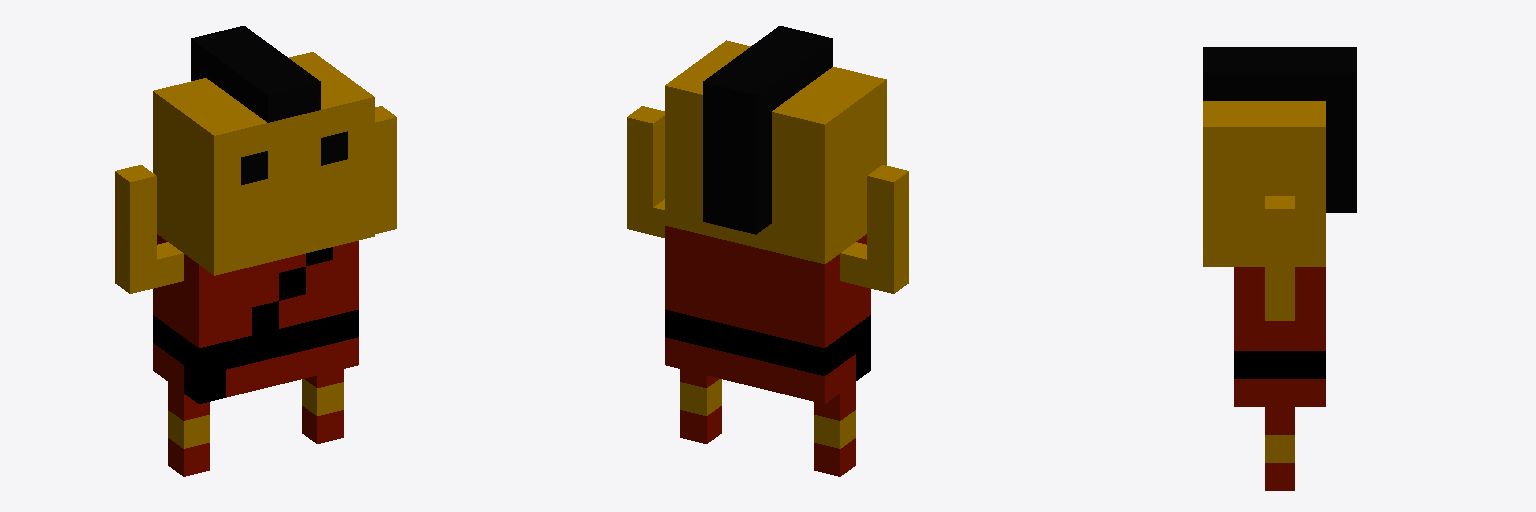
3 views of the same model, side by side, from view 1: azimuth 30°, elevation 25°; view 2: azimuth 150°, elevation 25°; view 3: azimuth 270°, elevation 25° (orthographic).
Parts seen in each view (by area): view 1: object 1; view 2: object 1; view 3: object 1.
Part boxes in pixels (left/top/right/bottom): object 1: left=115, top=26, right=396, bottom=476; object 1: left=627, top=26, right=908, bottom=476; object 1: left=1203, top=47, right=1356, bottom=490.
Bounding box in the file's own units: 1 × 1.4 × 0.5.
1 materials, 1 textured.